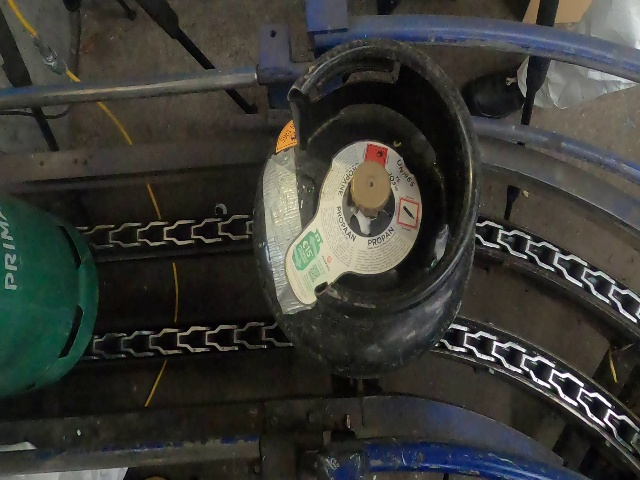gas_bottle: (10, 3, 634, 480)
